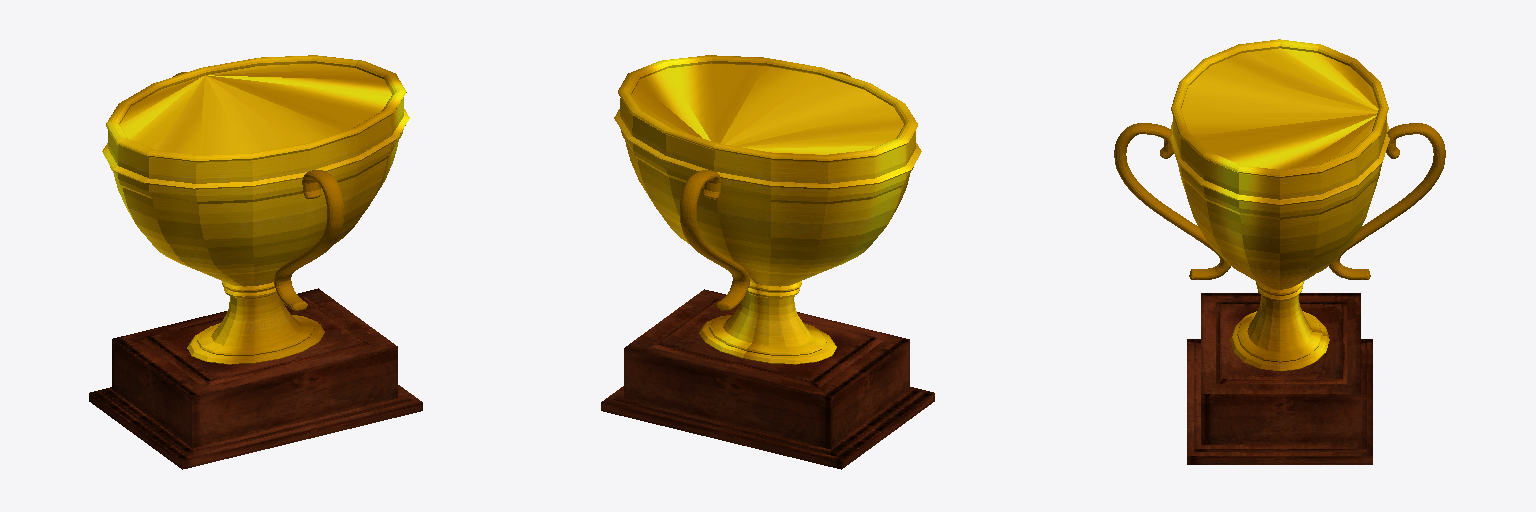
3 renders of one model, left to right at view 1: azimuth 30°, elevation 25°; view 2: azimuth 150°, elevation 25°; view 3: azimuth 270°, elevation 25°, orthographic.
Parts seen in each view (by area): view 1: trophee_Plane.002; view 2: trophee_Plane.002; view 3: trophee_Plane.002.
Boxes of the visible parts, x1,y1,x2,y2 form: trophee_Plane.002: [89, 55, 422, 469]; trophee_Plane.002: [601, 55, 934, 469]; trophee_Plane.002: [1114, 39, 1445, 464].
Bounding box in the file's own units: 1 × 1 × 0.9997.
Materials: 1 (1 with a texture image).